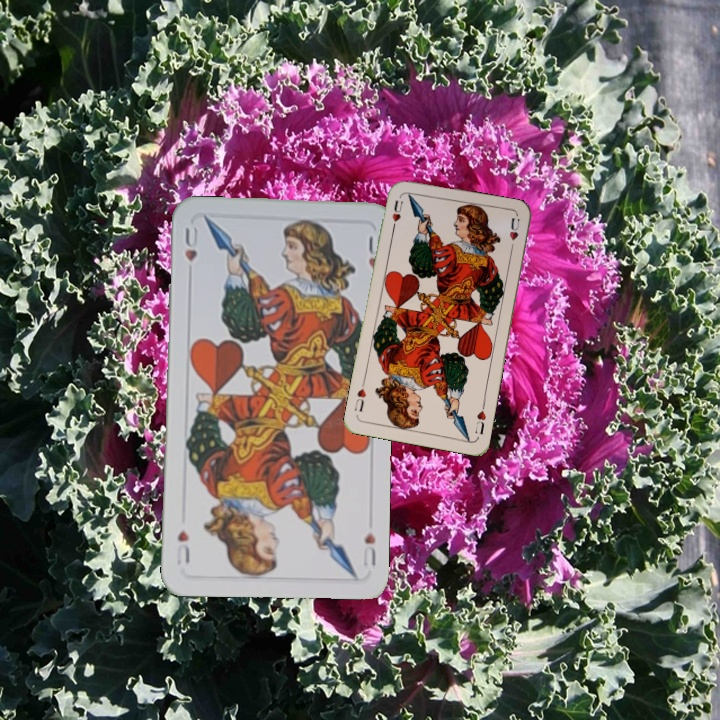HU: (181, 222, 201, 264), (360, 528, 379, 568), (471, 400, 489, 437), (388, 196, 406, 224)
